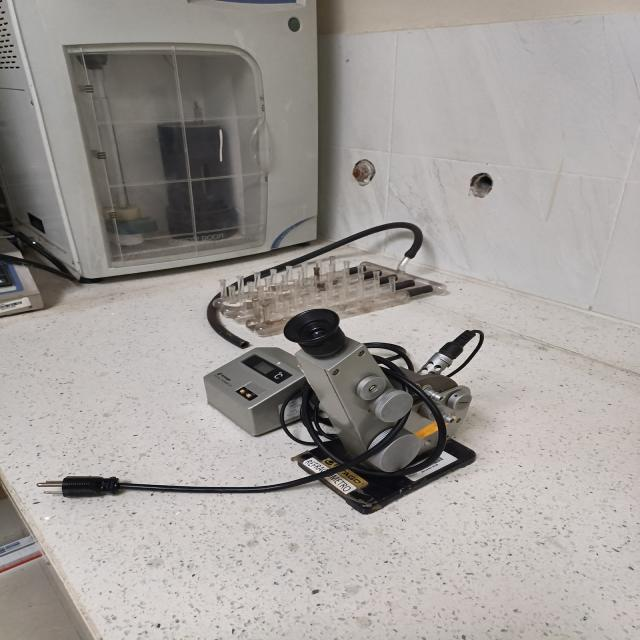Refractometro Digital Abbe de Mesa: (205, 308, 482, 513)
